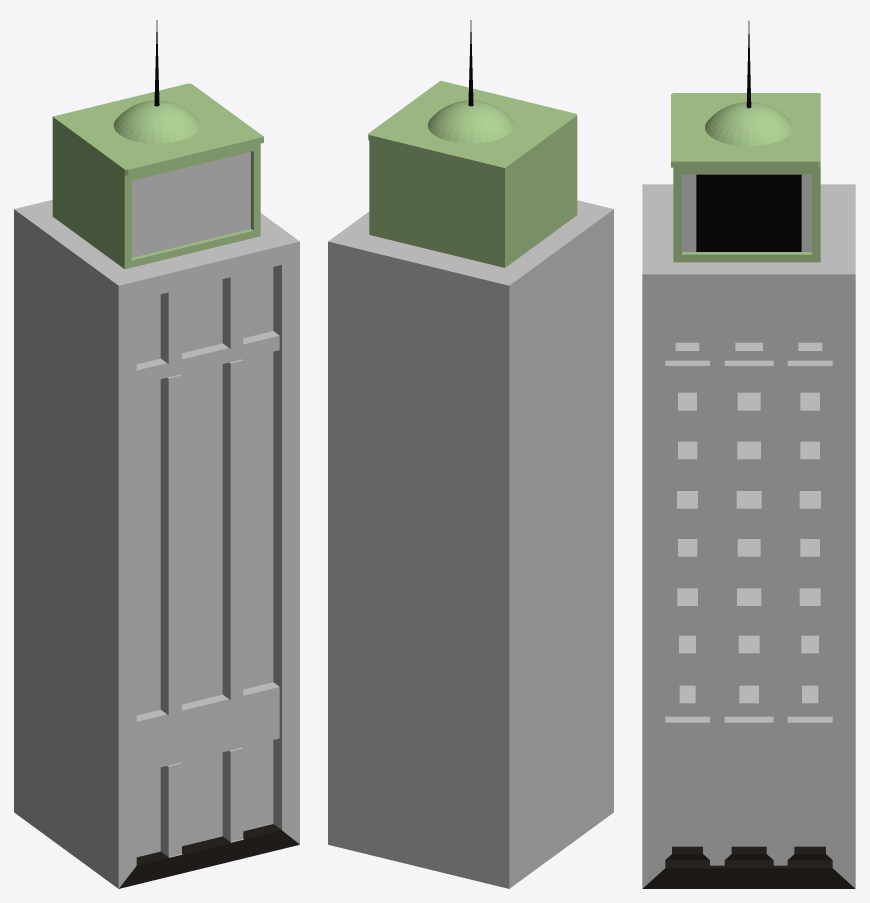
The model's file is TowerIUT.obj.
3 renders of one model, left to right at view 1: azimuth 30°, elevation 25°; view 2: azimuth 150°, elevation 25°; view 3: azimuth 270°, elevation 25°, orthographic.
Visible parts, largest first — view 1: Cube, Cube.001, Sphère; view 2: Cube, Cube.001, Sphère; view 3: Cube, Cube.001, Logo-UP13-noirS, Sphère.
Part boxes in pixels (x1,y1,x2,y2): Cube: (14,200,299,888); Cube.001: (52,83,263,269); Sphère: (113,100,200,143); Cube: (328,200,613,888); Cube.001: (368,80,577,267); Sphère: (427,100,514,143); Cube: (642,184,855,888); Cube.001: (671,93,820,262); Logo-UP13-noirS: (696,174,801,251); Sphère: (705,102,792,146).
Bounding box in the file's own units: 2 × 8.59 × 2.
